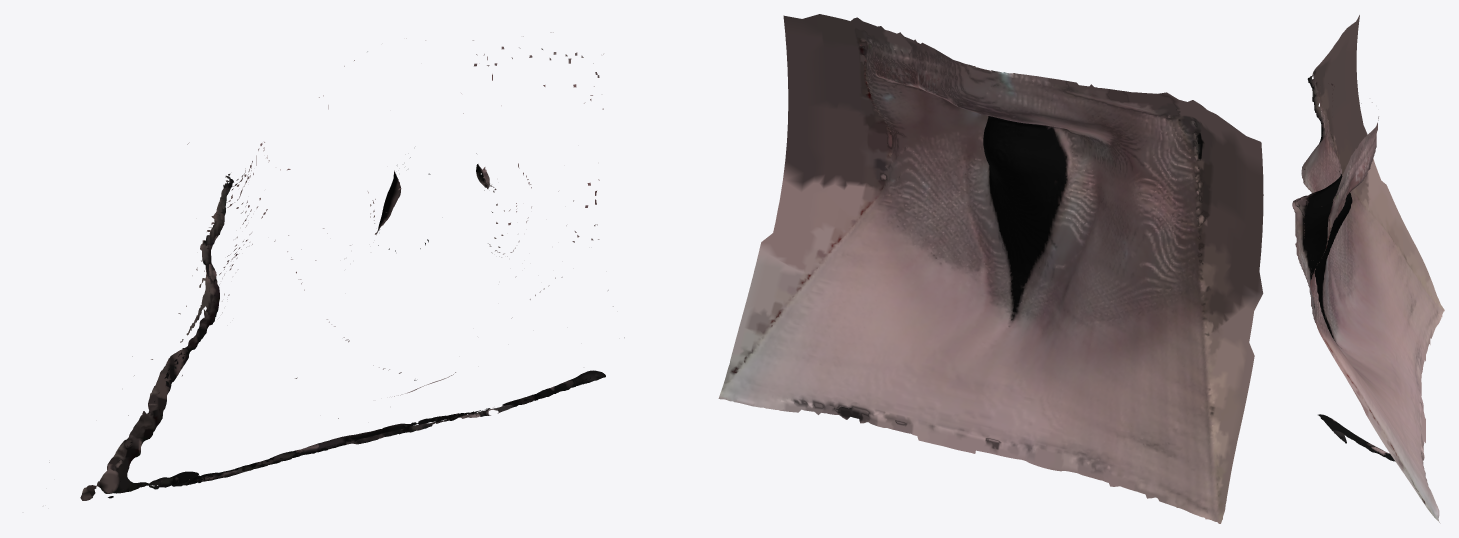
File: vocal (45) - black.gltf
The picture shows the model from 3 angles, left to right: view 1: azimuth 30°, elevation 25°; view 2: azimuth 150°, elevation 25°; view 3: azimuth 270°, elevation 25°; orthographic projection. The views are drawn at different scales.
Size of the model in its own units: 0.00154 by 0.00105 by 0.000463.
